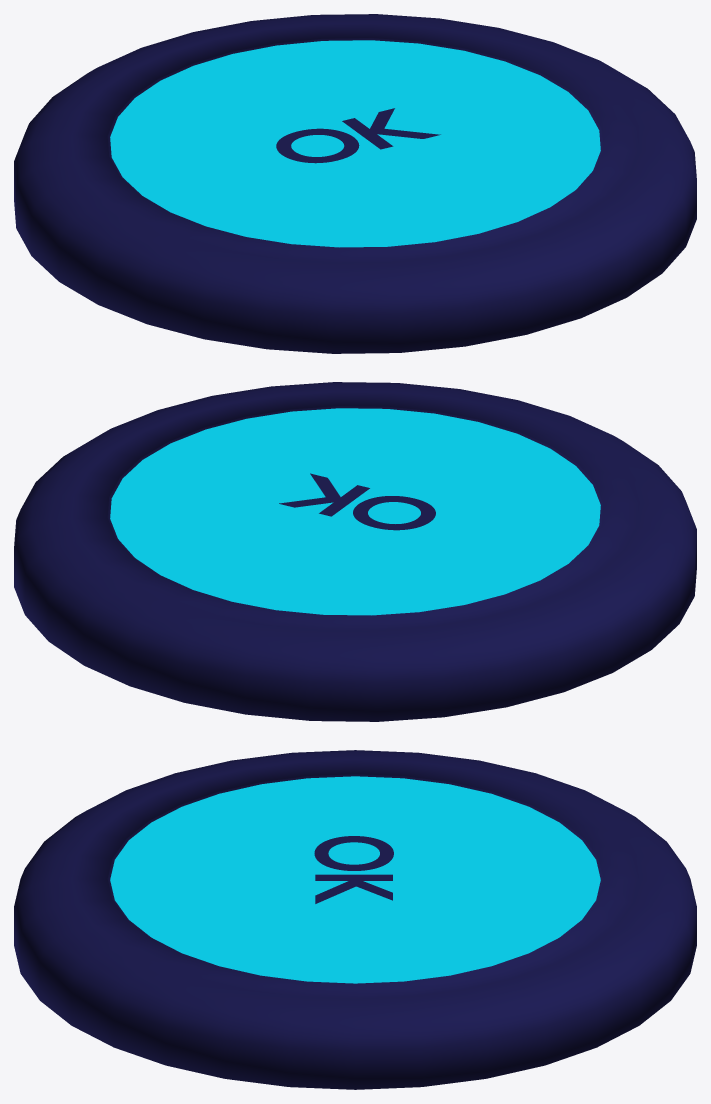
The model's file is OK丸ボタン.fbx.
3 renders of one model, top to bottom at view 1: azimuth 30°, elevation 25°; view 2: azimuth 150°, elevation 25°; view 3: azimuth 270°, elevation 25°, orthographic.
Parts seen in each view (by area): view 1: 円柱, 円, テキスト; view 2: 円柱, 円, テキスト; view 3: 円柱, 円, テキスト.
Part boxes in pixels (box(x1,y1,x2,y2)): 円柱: box(14, 14, 696, 353); 円: box(110, 40, 600, 247); テキスト: box(276, 108, 440, 163); 円柱: box(14, 382, 696, 721); 円: box(110, 408, 600, 615); テキスト: box(279, 473, 435, 530); 円柱: box(14, 750, 696, 1089); 円: box(110, 776, 600, 983); テキスト: box(314, 836, 393, 903).
Bounding box in the file's own units: 200 × 23.69 × 200.
